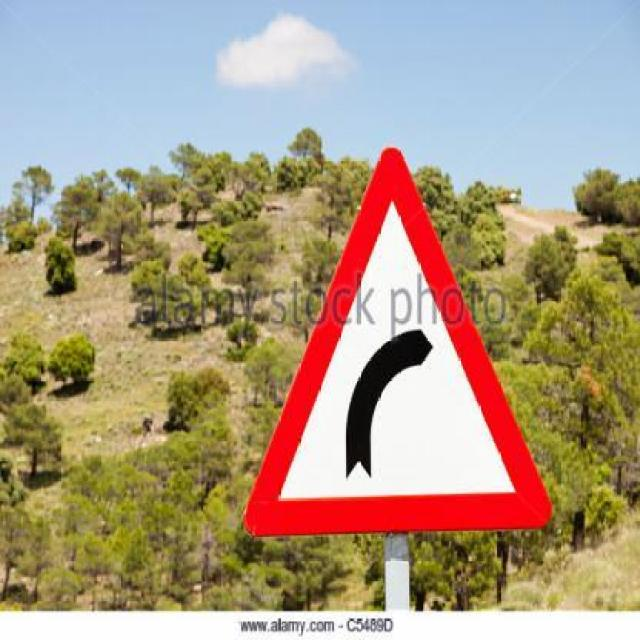traffic_sign: (248, 198, 530, 516)
